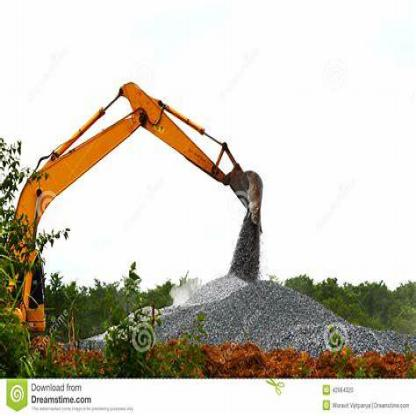excavator: (6, 70, 291, 334)
